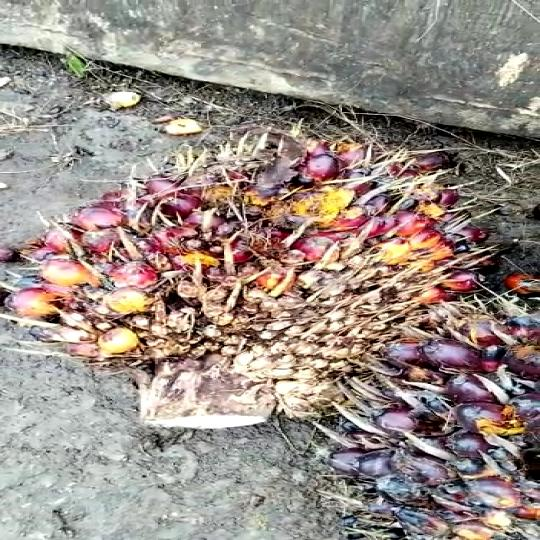masak: (0, 135, 484, 452), (316, 274, 538, 540)
